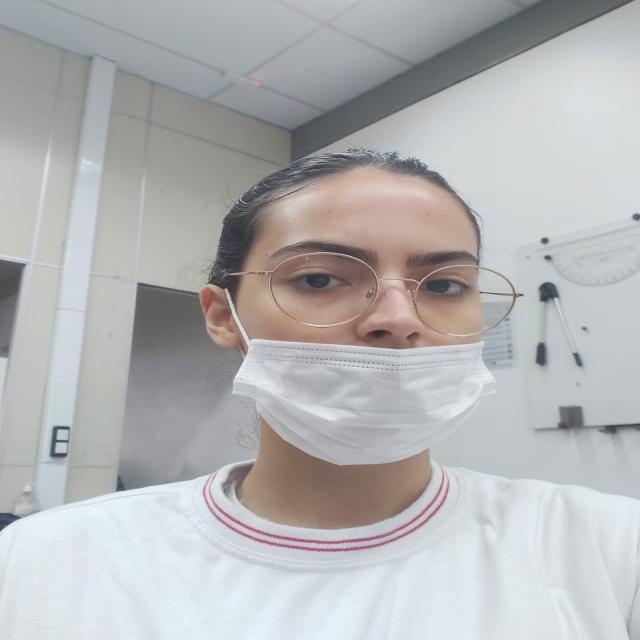hairnet: (193, 137, 508, 469)
